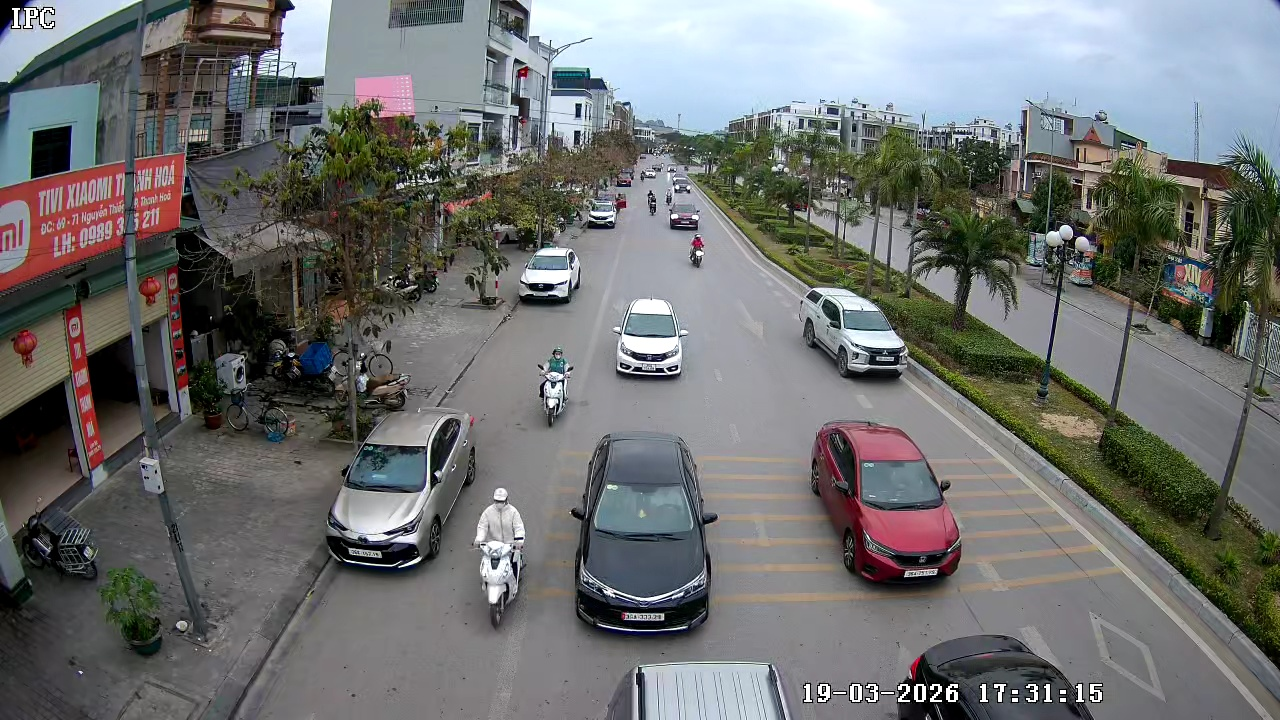car: (569, 430, 720, 637), (325, 406, 477, 570), (809, 420, 962, 582), (887, 633, 1106, 719), (799, 285, 906, 379), (613, 296, 689, 379), (518, 245, 582, 304), (667, 196, 702, 231), (582, 198, 619, 229)
motorbike: (473, 487, 529, 628), (355, 341, 412, 412), (536, 345, 575, 428), (688, 231, 705, 268), (644, 187, 658, 216)
